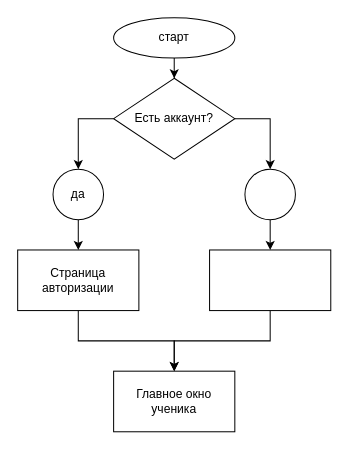
Image size: 348x449. Some labels were removed from this diagram. Here are the shapes that lost their labels. From the top down, the centre of each, then its label:
At (269,194): "нет".
At (270,280): "Страница регистрации".
